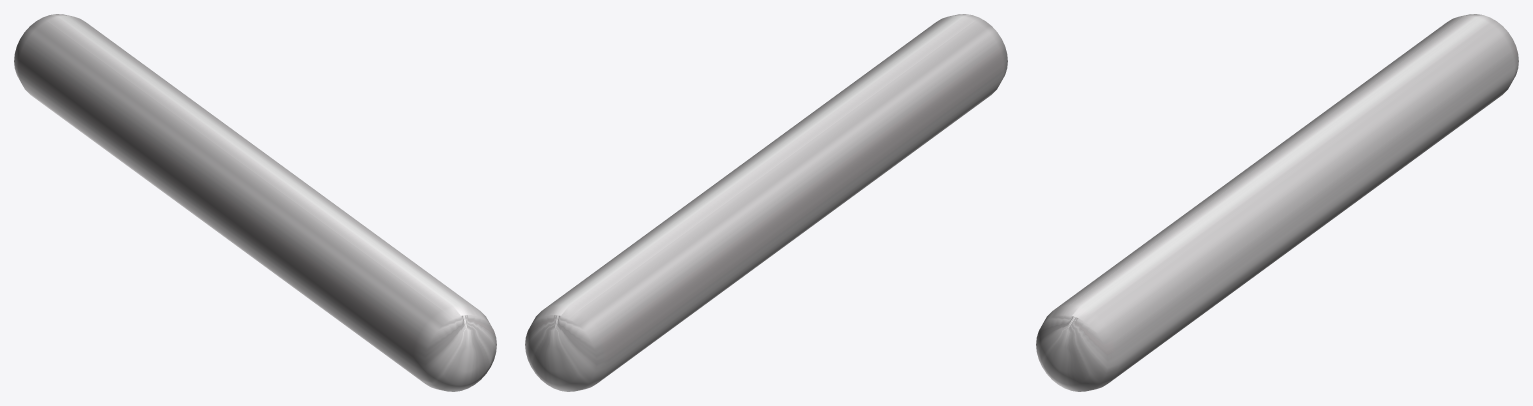
The model's file is RoomCylinder.fbx.
3 renders of one model, left to right at view 1: azimuth 30°, elevation 25°; view 2: azimuth 150°, elevation 25°; view 3: azimuth 330°, elevation 25°, orthographic.
Parts seen in each view (by area): view 1: RoomCylinder; view 2: RoomCylinder; view 3: RoomCylinder.
Boxes of the visible parts, x1=… form: RoomCylinder: x1=14, y1=14, x2=496, y2=391; RoomCylinder: x1=525, y1=14, x2=1007, y2=391; RoomCylinder: x1=1036, y1=14, x2=1518, y2=391.
Size of the model in its own units: 7.36 by 7.36 by 68.72.
